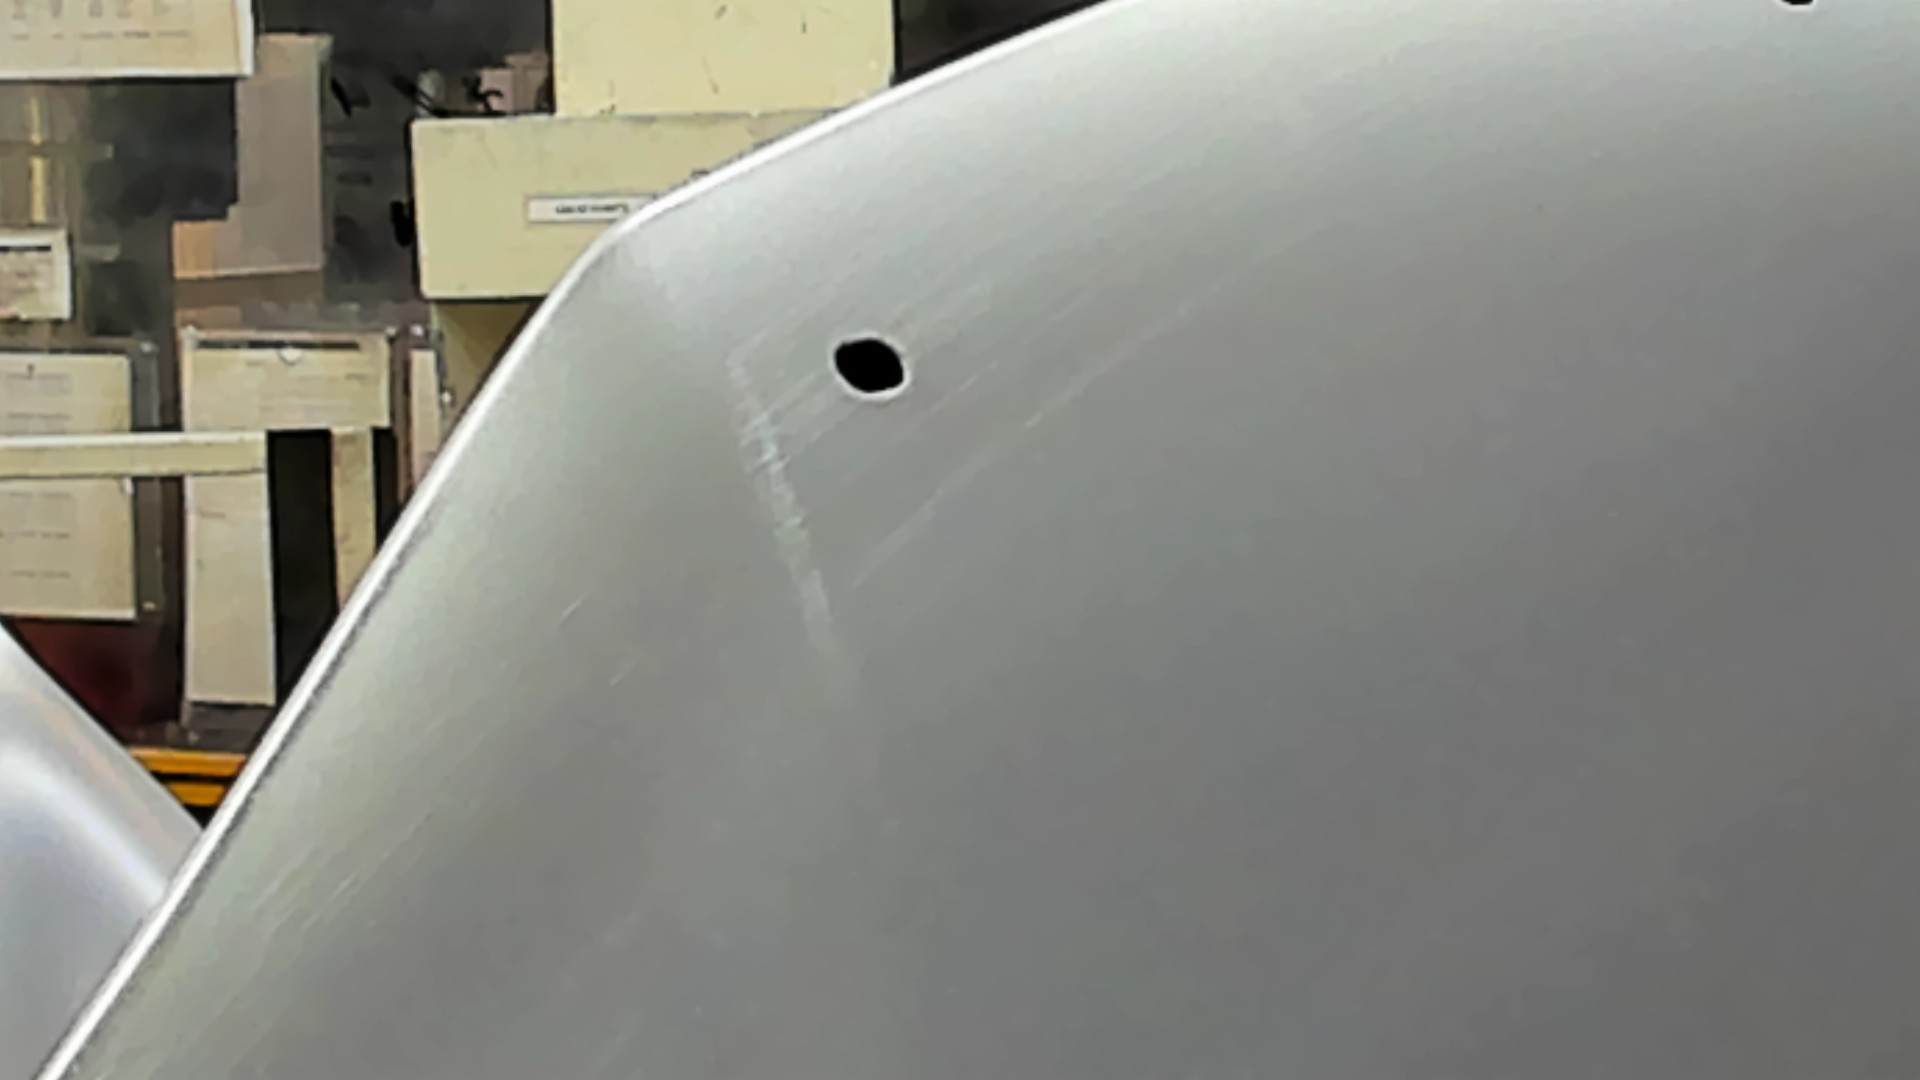amorfo: (822, 328, 918, 406), (1775, 1, 1824, 15)
